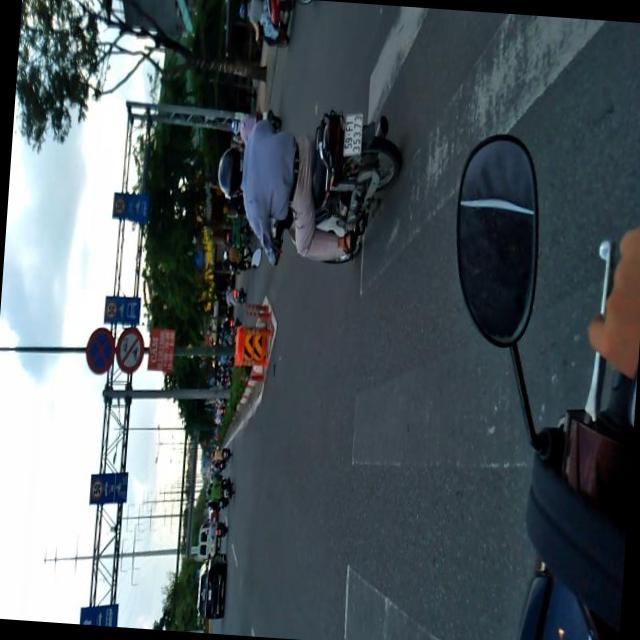P-105: (112, 324, 150, 374)
P-130: (80, 322, 118, 374)
